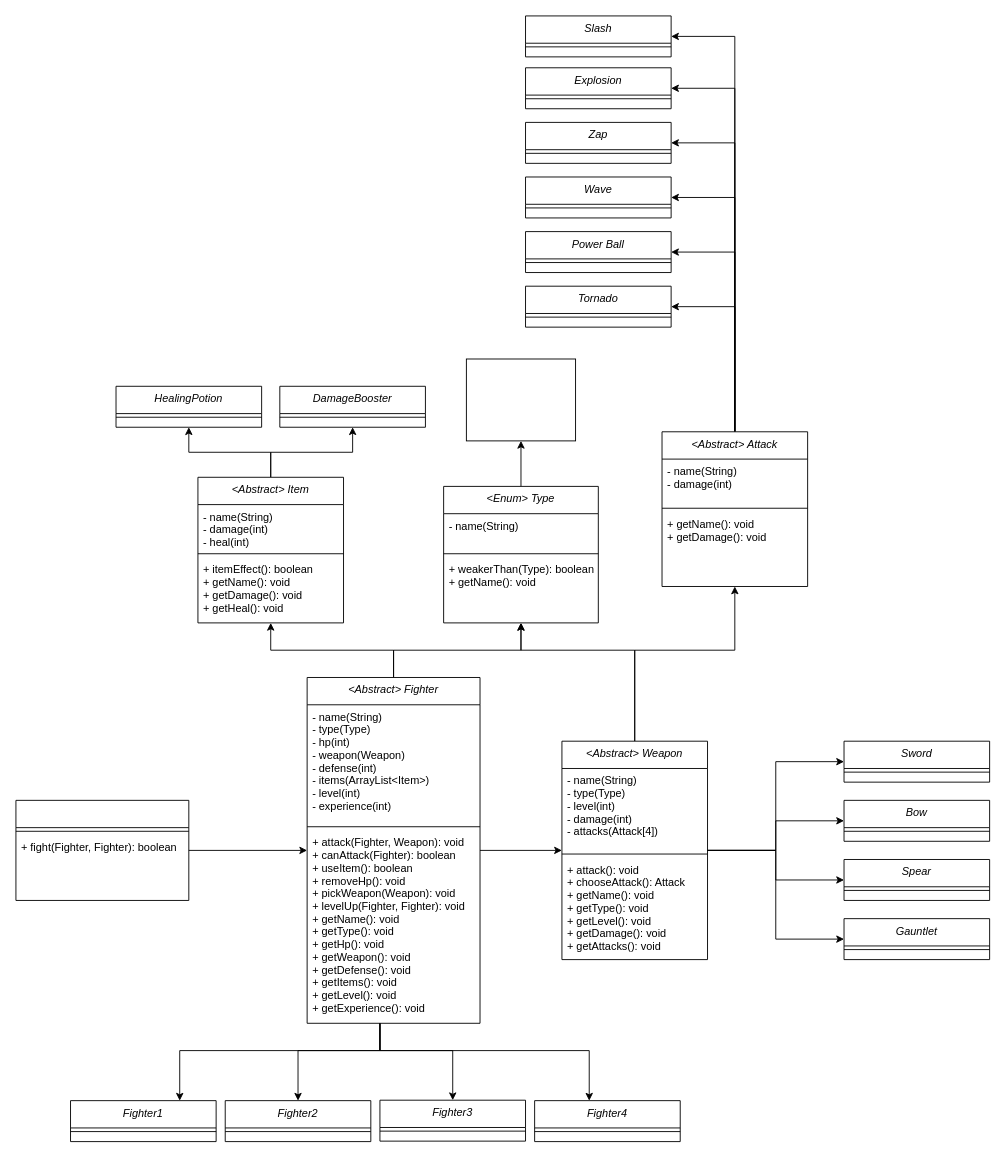
This 1006x1158 diagram has some shape labels left out. The shapes that lost their labels are listed below. From the top down, each one's box as (x1, y1, x2, y2) in pixels, then its label:
(465, 358, 576, 441): Fire Water Air Ground Neutral
(15, 799, 189, 900): Arena
